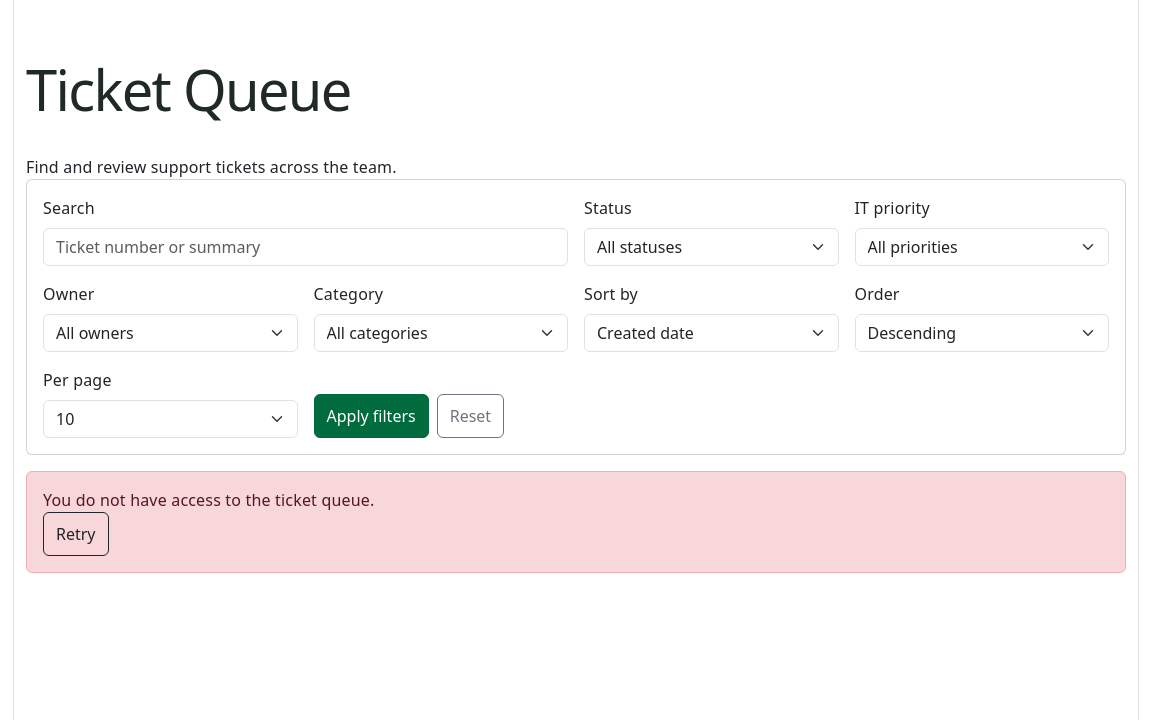
Test: shows forbidden feedback and retries a failed load
Check: the message shows "do not have access", box [43, 489, 374, 511]
What coordinates should you click on to do the following:
click the button "Retry"
I would click on:
 (76, 534)
Its box is [43, 512, 108, 556].
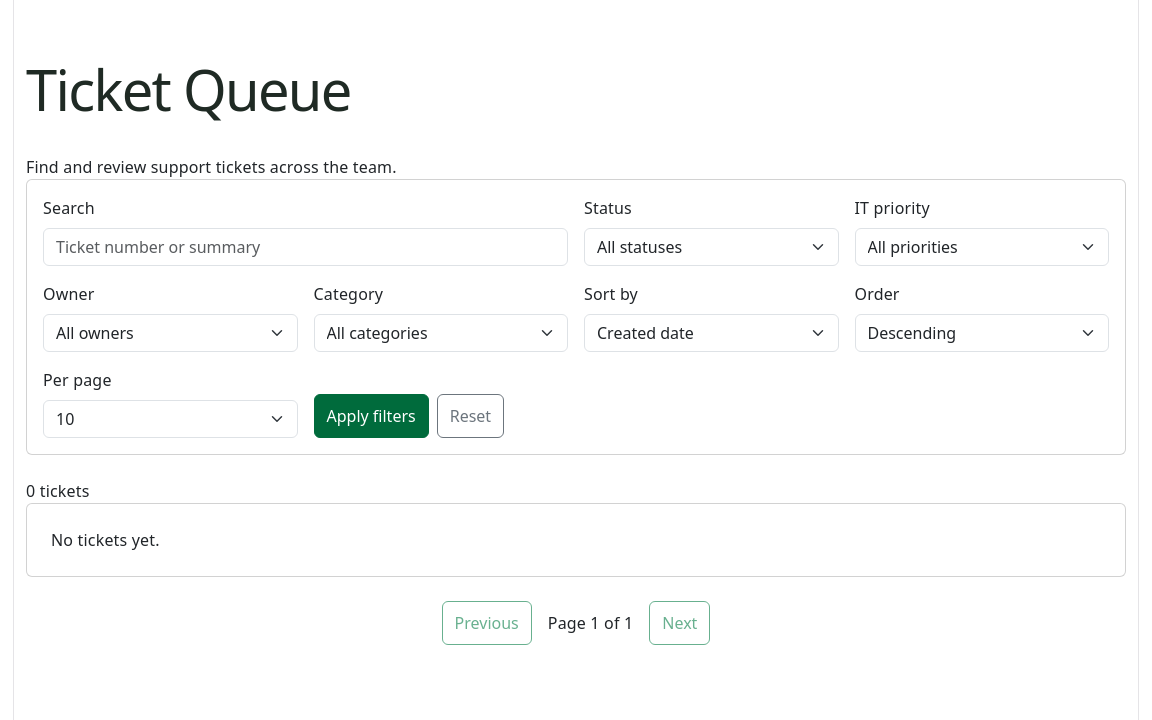
Check: the text "No tickets yet." is shown, box [26, 503, 1126, 577]
